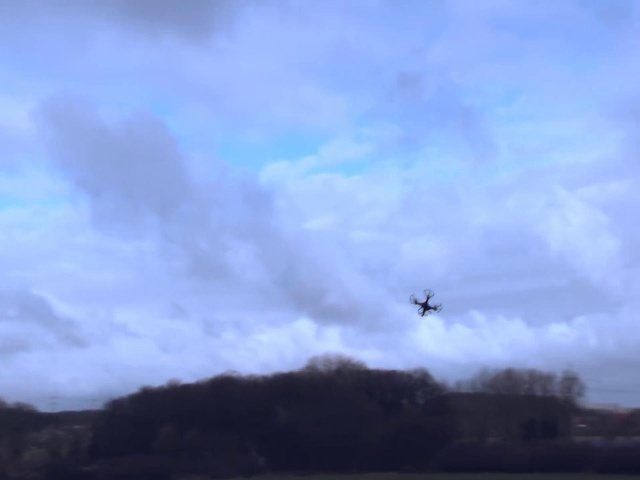drone: (407, 289, 443, 316)
